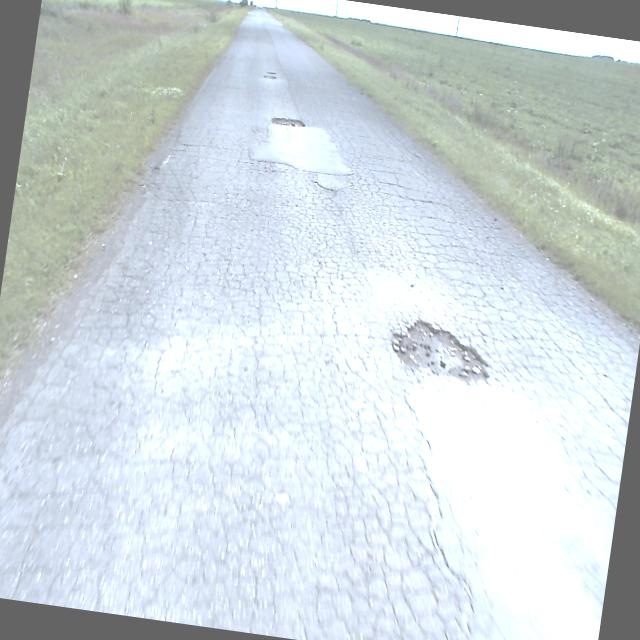road: (0, 9, 638, 640)
